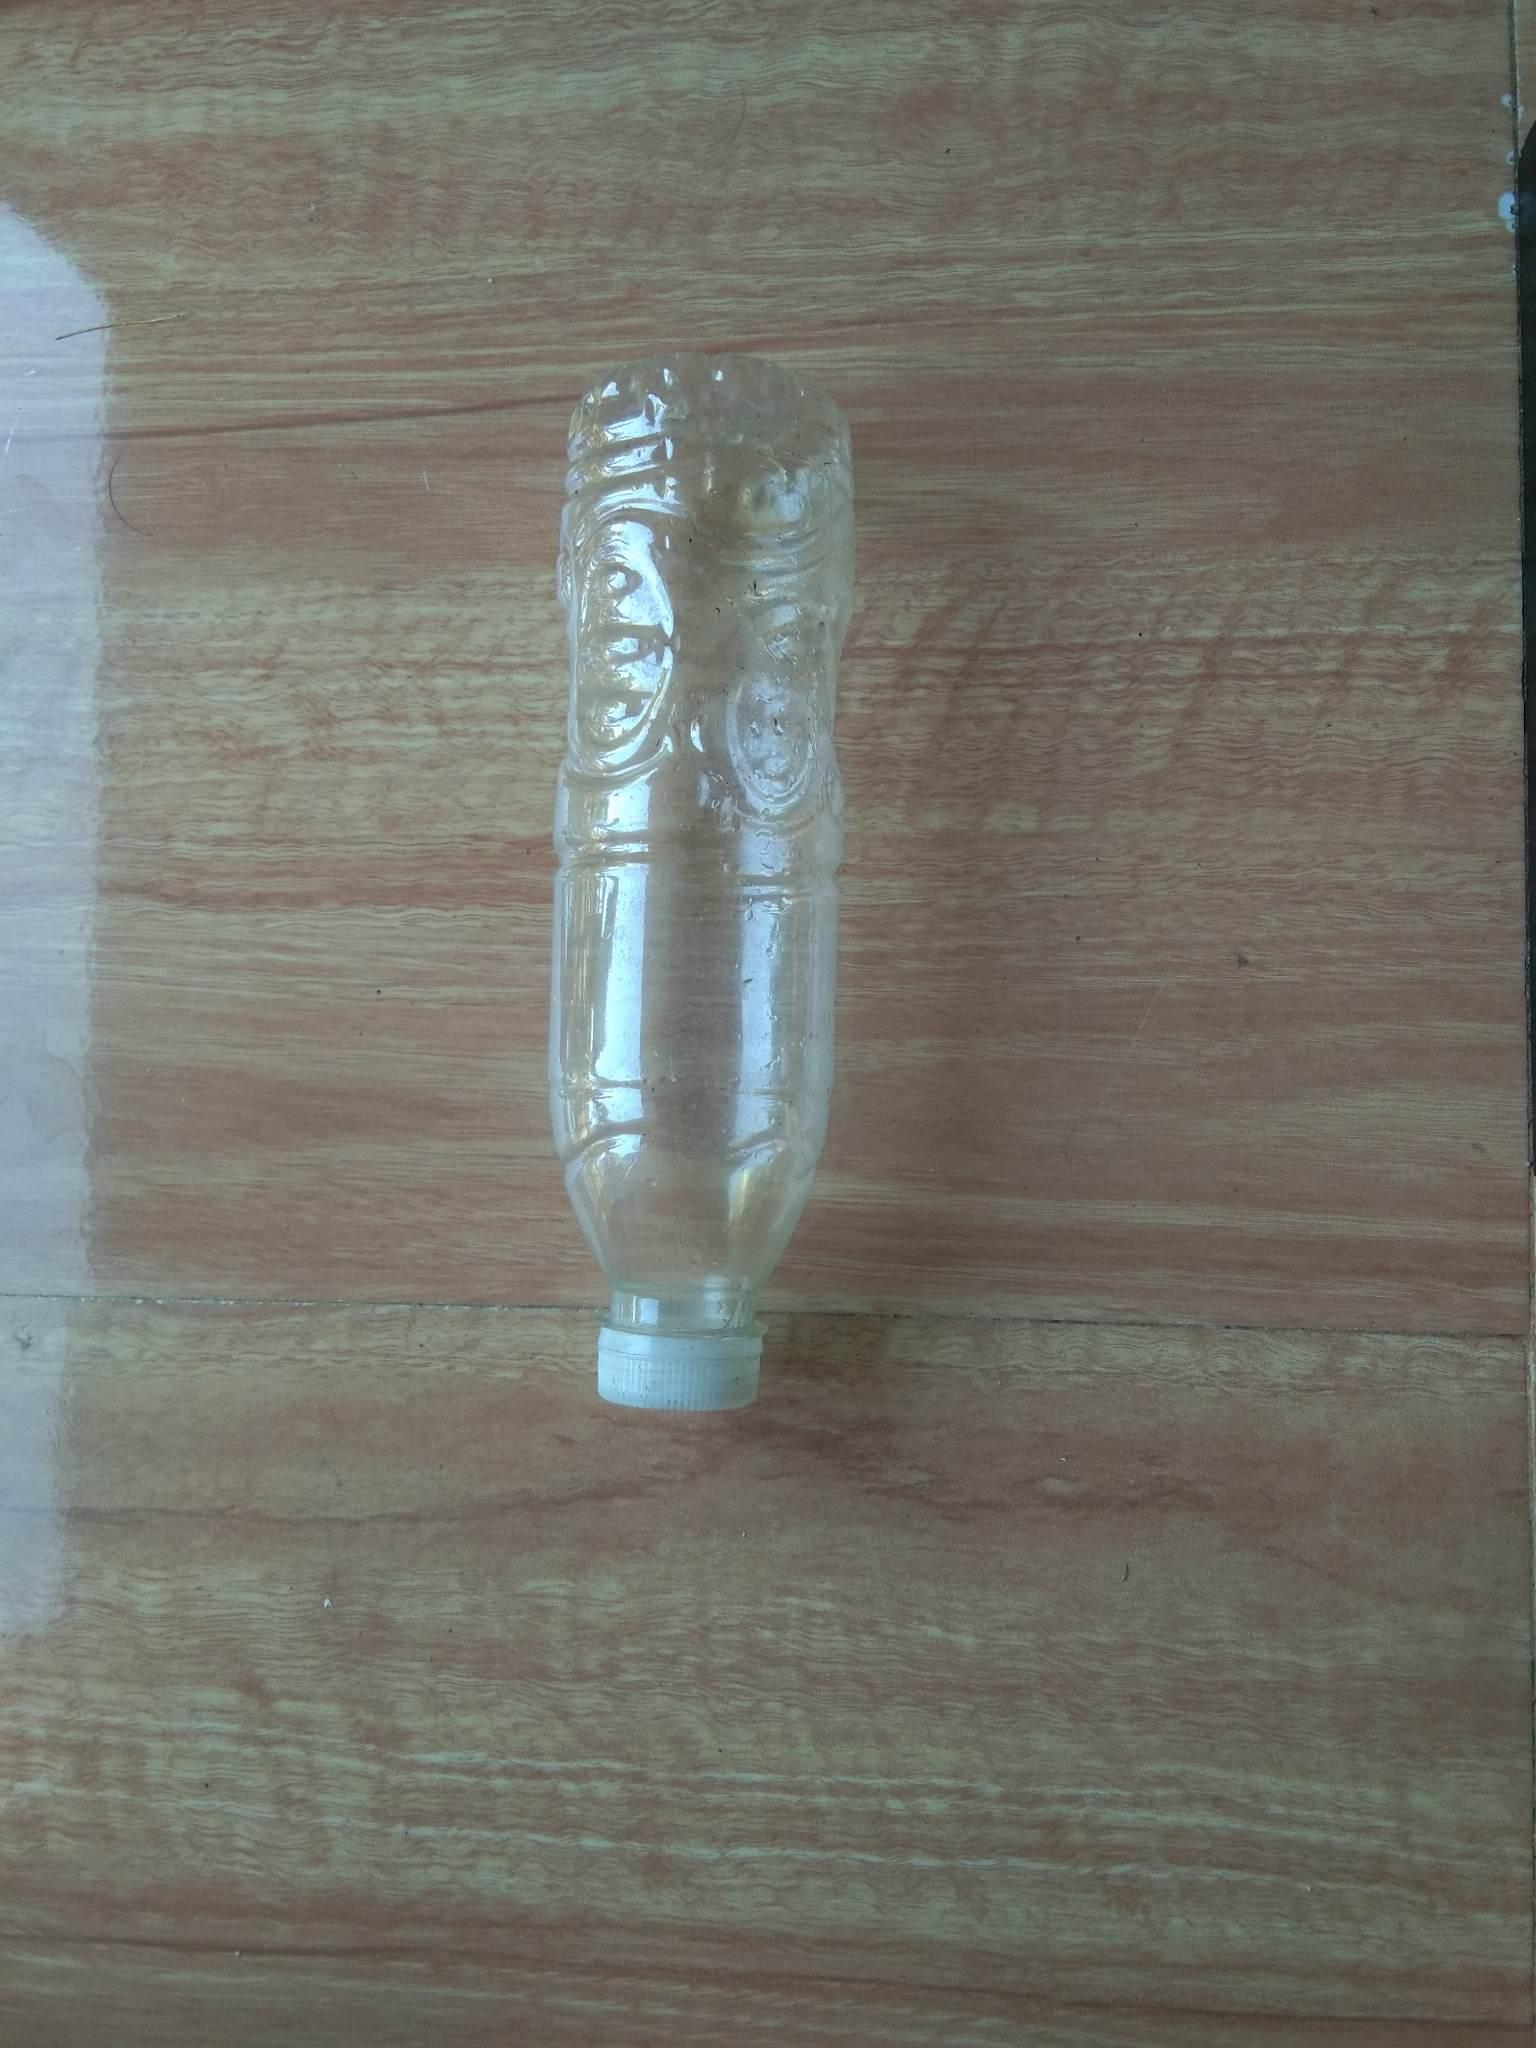plastic: (478, 342, 925, 1508)
